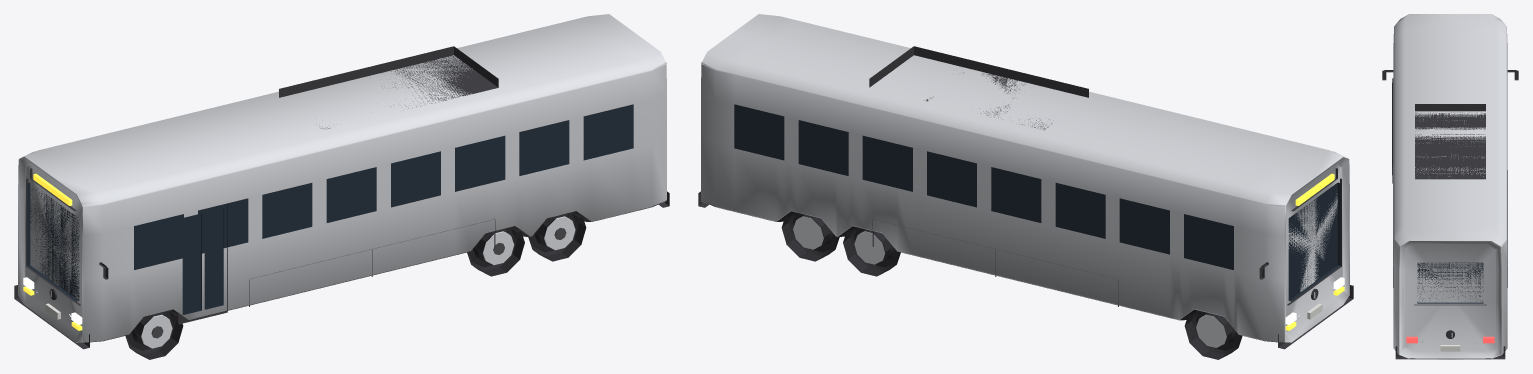
The model's file is bus_silver.glb.
3 renders of one model, left to right at view 1: azimuth 30°, elevation 25°; view 2: azimuth 150°, elevation 25°; view 3: azimuth 270°, elevation 25°, orthographic. The views are drawn at different scales.
Size of the model in its own units: 1.9 by 0.5698 by 0.4793.
